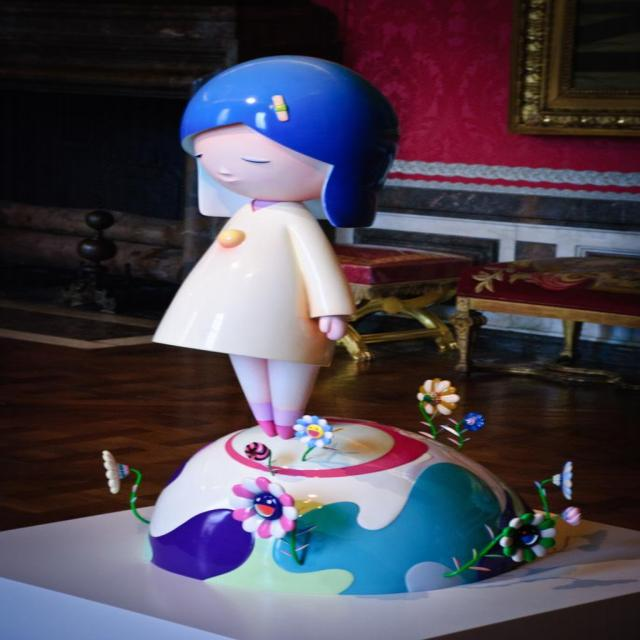Table: (465, 254, 632, 381)
